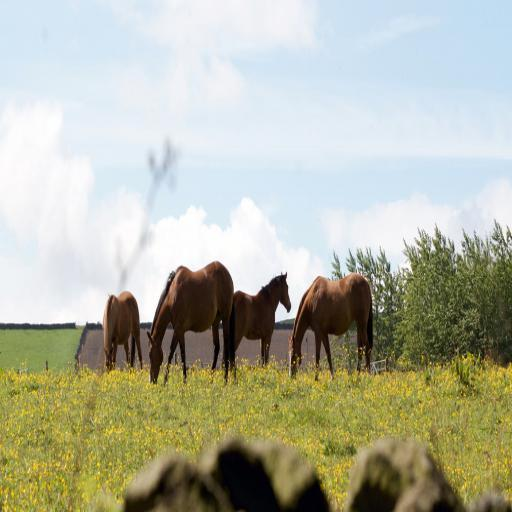horse: (146, 256, 236, 386), (284, 263, 380, 377), (222, 268, 292, 374), (104, 292, 142, 378)
